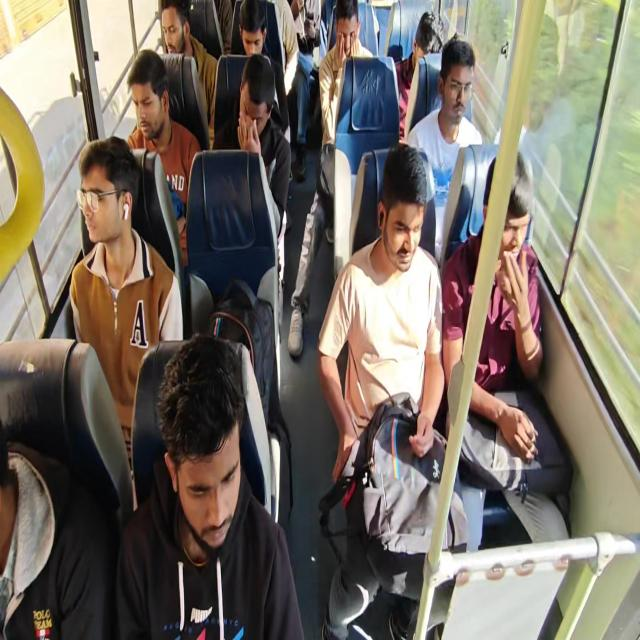person: (166, 382, 253, 554), (77, 172, 134, 270), (479, 172, 535, 271), (381, 182, 424, 280), (222, 80, 276, 152), (0, 412, 25, 556), (127, 68, 160, 144), (442, 50, 472, 124), (405, 11, 449, 59), (156, 0, 188, 58), (330, 0, 354, 62), (241, 1, 265, 54)
